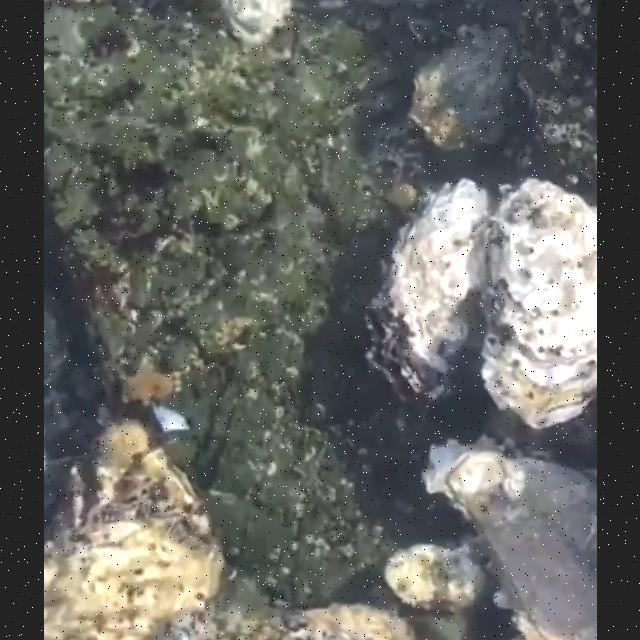Oyster-Closed: (44, 418, 226, 640), (419, 432, 596, 640), (478, 178, 596, 432), (405, 26, 517, 150), (382, 542, 488, 614)
Oyster-Open: (363, 178, 493, 412)
